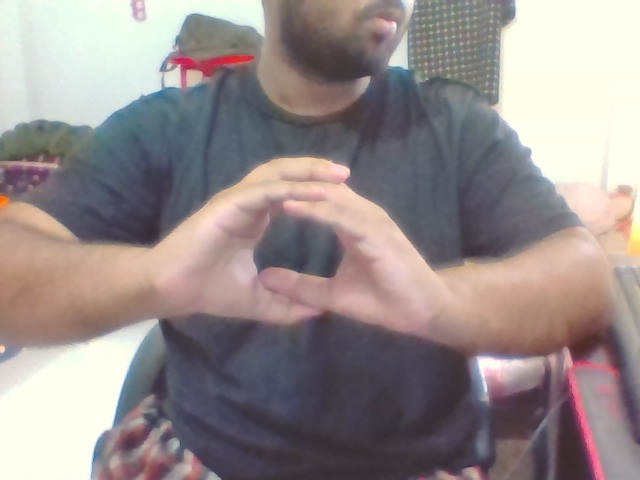O: (200, 145, 424, 351)
